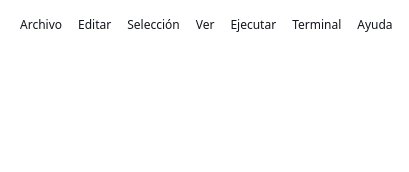
MenuBar › abre el desplegable al clickear un título
Click the menu item with test id "menu-trigger-file" at (41, 24), box [12,12,70,37]
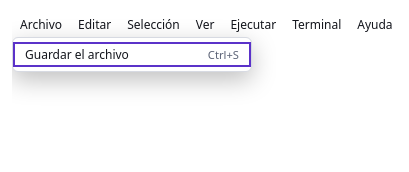
Check: the menu with test id "menu-file" is shown, box [12,37,252,72]
Check: the menu item with test id "menu-item-file.save" is shown, box [13,42,251,67]
